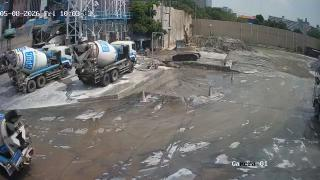cement_mixer_truck: (72, 36, 136, 90), (0, 105, 40, 179), (9, 47, 73, 91), (33, 34, 70, 46)
